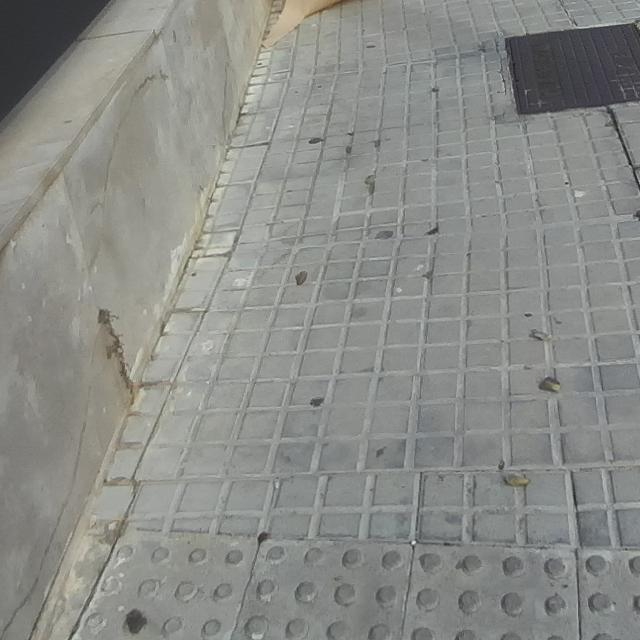calcada_quebrada: (590, 104, 640, 194)
